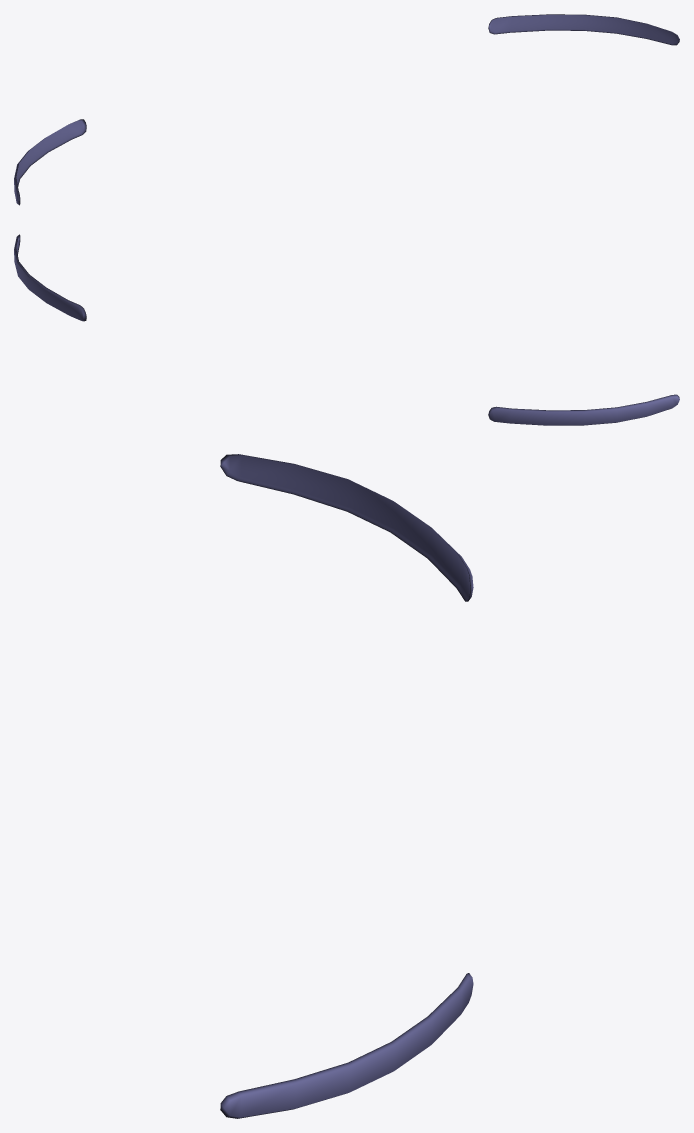
The model's file is Viper_RB_01_Detail.fbx.
3 renders of one model, top to bottom at view 1: azimuth 30°, elevation 25°; view 2: azimuth 150°, elevation 25°; view 3: azimuth 270°, elevation 25°, orthographic. The views are drawn at different scales.
Visible parts, largest first — view 1: Viper_RB_01_Detail; view 2: Viper_RB_01_Detail; view 3: Viper_RB_01_Detail.
Part boxes in pixels (left/top/right/bottom): Viper_RB_01_Detail: left=14, top=14, right=679, bottom=205; Viper_RB_01_Detail: left=14, top=234, right=679, bottom=425; Viper_RB_01_Detail: left=220, top=454, right=473, bottom=1118.
Size of the model in its own units: 175 by 4.01 by 28.9.
